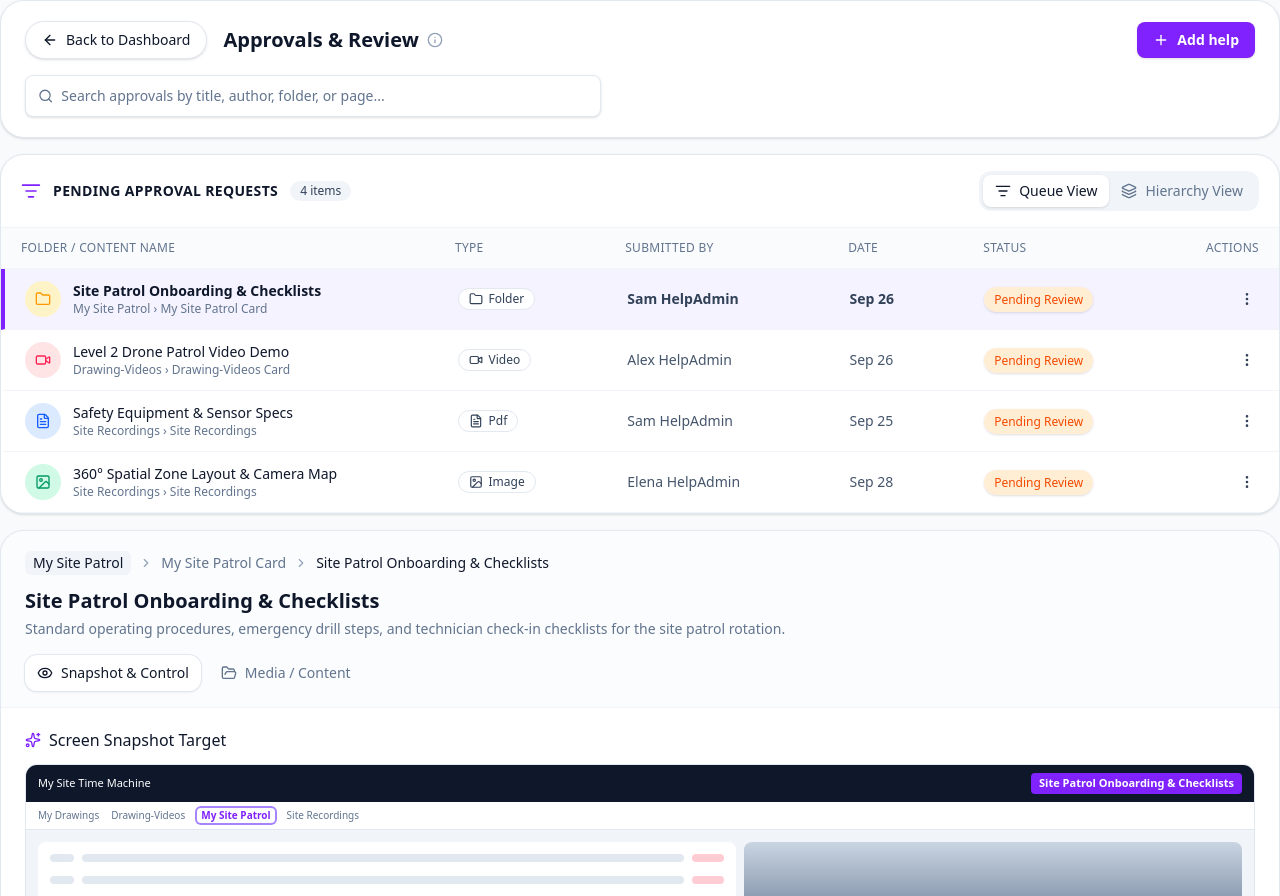
Test: ApprovalsWorkspace › says so when nothing matches
Step 1. Type "zzz" into the search field with placeholder "Search approvals by title, author, folder, or page..." → [325, 96], box [61,86,588,106]
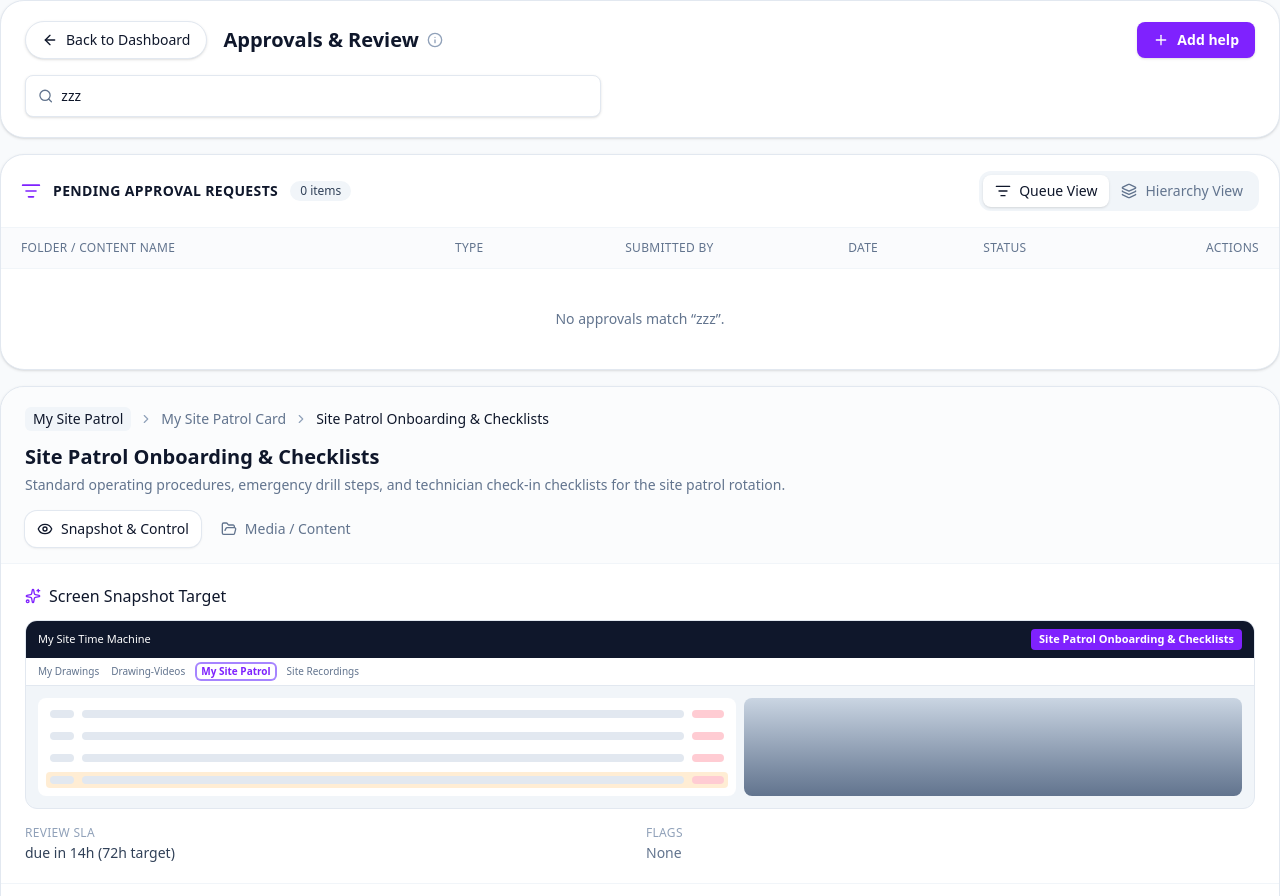
Check: the text "No approvals match “zzz”." is shown, box [556,309,724,328]
